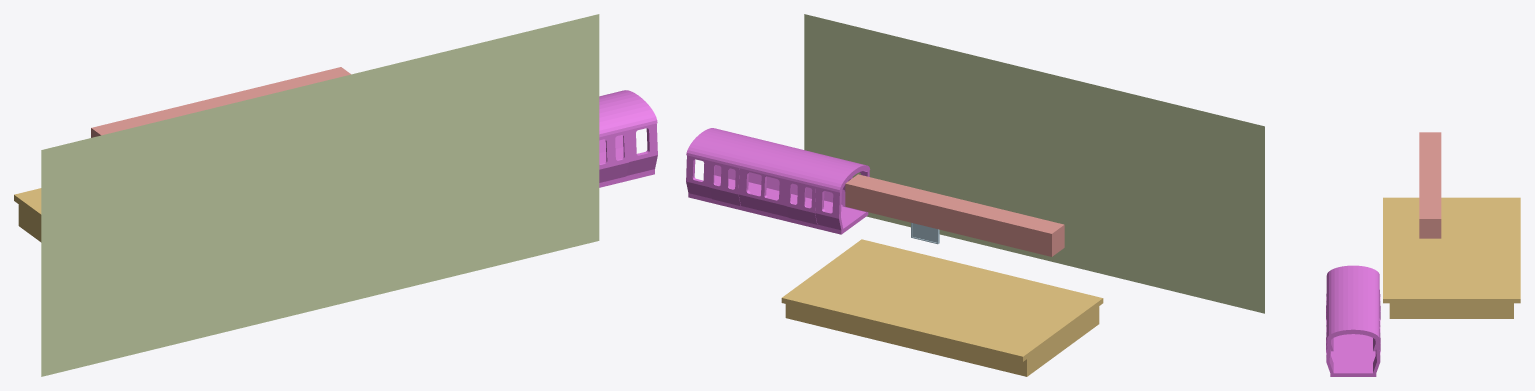
Rendered from transit-01.gltf.
The picture shows the model from 3 angles, left to right: view 1: azimuth 30°, elevation 25°; view 2: azimuth 150°, elevation 25°; view 3: azimuth 270°, elevation 25°; orthographic projection. The views are drawn at different scales.
Visible parts, largest first — view 1: Wall-Plane, Train-Complete, Roof.002, Platform; view 2: Wall-Plane, Platform, Train-Complete, Roof.002; view 3: Platform, Train-Complete, Roof.002.
Part boxes in pixels (x1,y1,x2,y2): Wall-Plane: (41,14,599,376); Train-Complete: (599,90,657,187); Roof.002: (91,67,350,137); Platform: (14,188,41,242); Wall-Plane: (804,14,1264,313); Platform: (781,239,1103,376); Train-Complete: (686,128,870,234); Roof.002: (845,174,1064,256); Platform: (1383,197,1520,318); Train-Complete: (1326,265,1380,376); Roof.002: (1419,132,1441,238).
Bounding box in the file's own units: 47.93 × 16.24 × 20.77.
